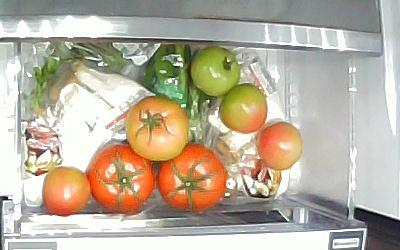tomato: (155, 142, 226, 212), (86, 143, 154, 212), (125, 94, 189, 160), (189, 45, 240, 96), (218, 82, 267, 133), (41, 165, 90, 214), (255, 121, 302, 170)
